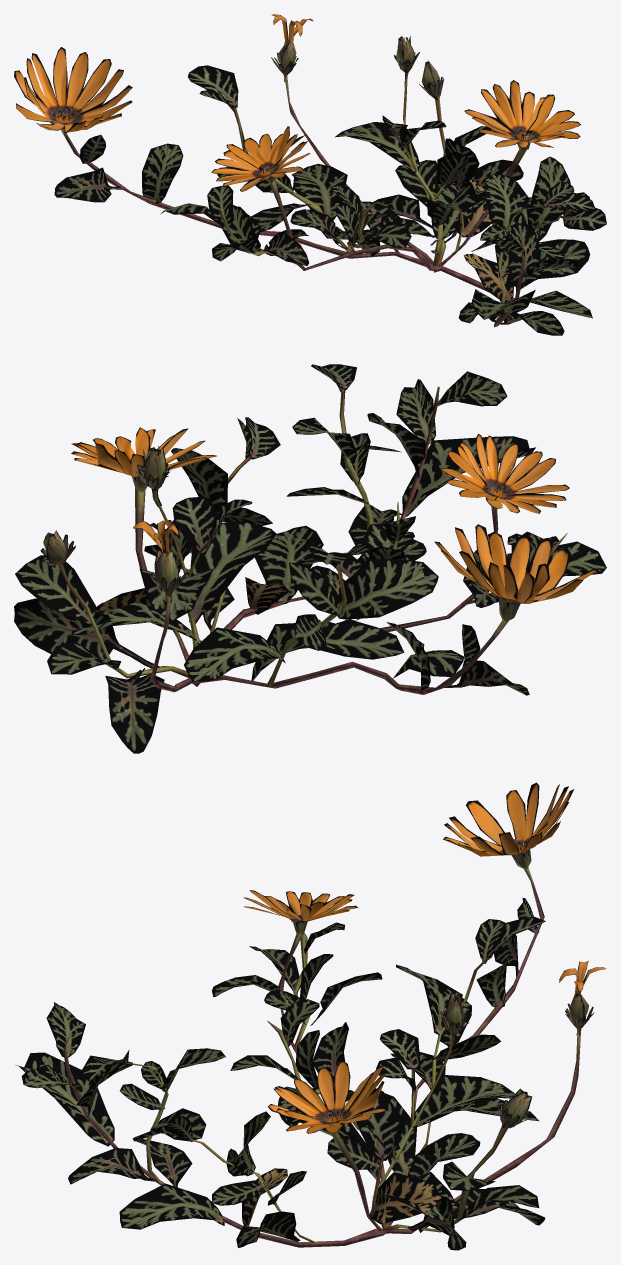
The model's file is flower_ursinia_1.gltf.
3 views of the same model, one above another, from view 1: azimuth 30°, elevation 25°; view 2: azimuth 150°, elevation 25°; view 3: azimuth 270°, elevation 25° (orthographic). The views are drawn at different scales.
Parts seen in each view (by area): view 1: flower_ursinia_b_LOD0; view 2: flower_ursinia_b_LOD0; view 3: flower_ursinia_b_LOD0.
Part boxes in pixels (x1=…): flower_ursinia_b_LOD0: x1=14, y1=14, x2=606, y2=335; flower_ursinia_b_LOD0: x1=14, y1=364, x2=606, y2=753; flower_ursinia_b_LOD0: x1=16, y1=782, x2=606, y2=1250.
Bounding box in the file's own units: 0.2774 × 0.1313 × 0.2598.
Materials: 1 (1 with a texture image).
